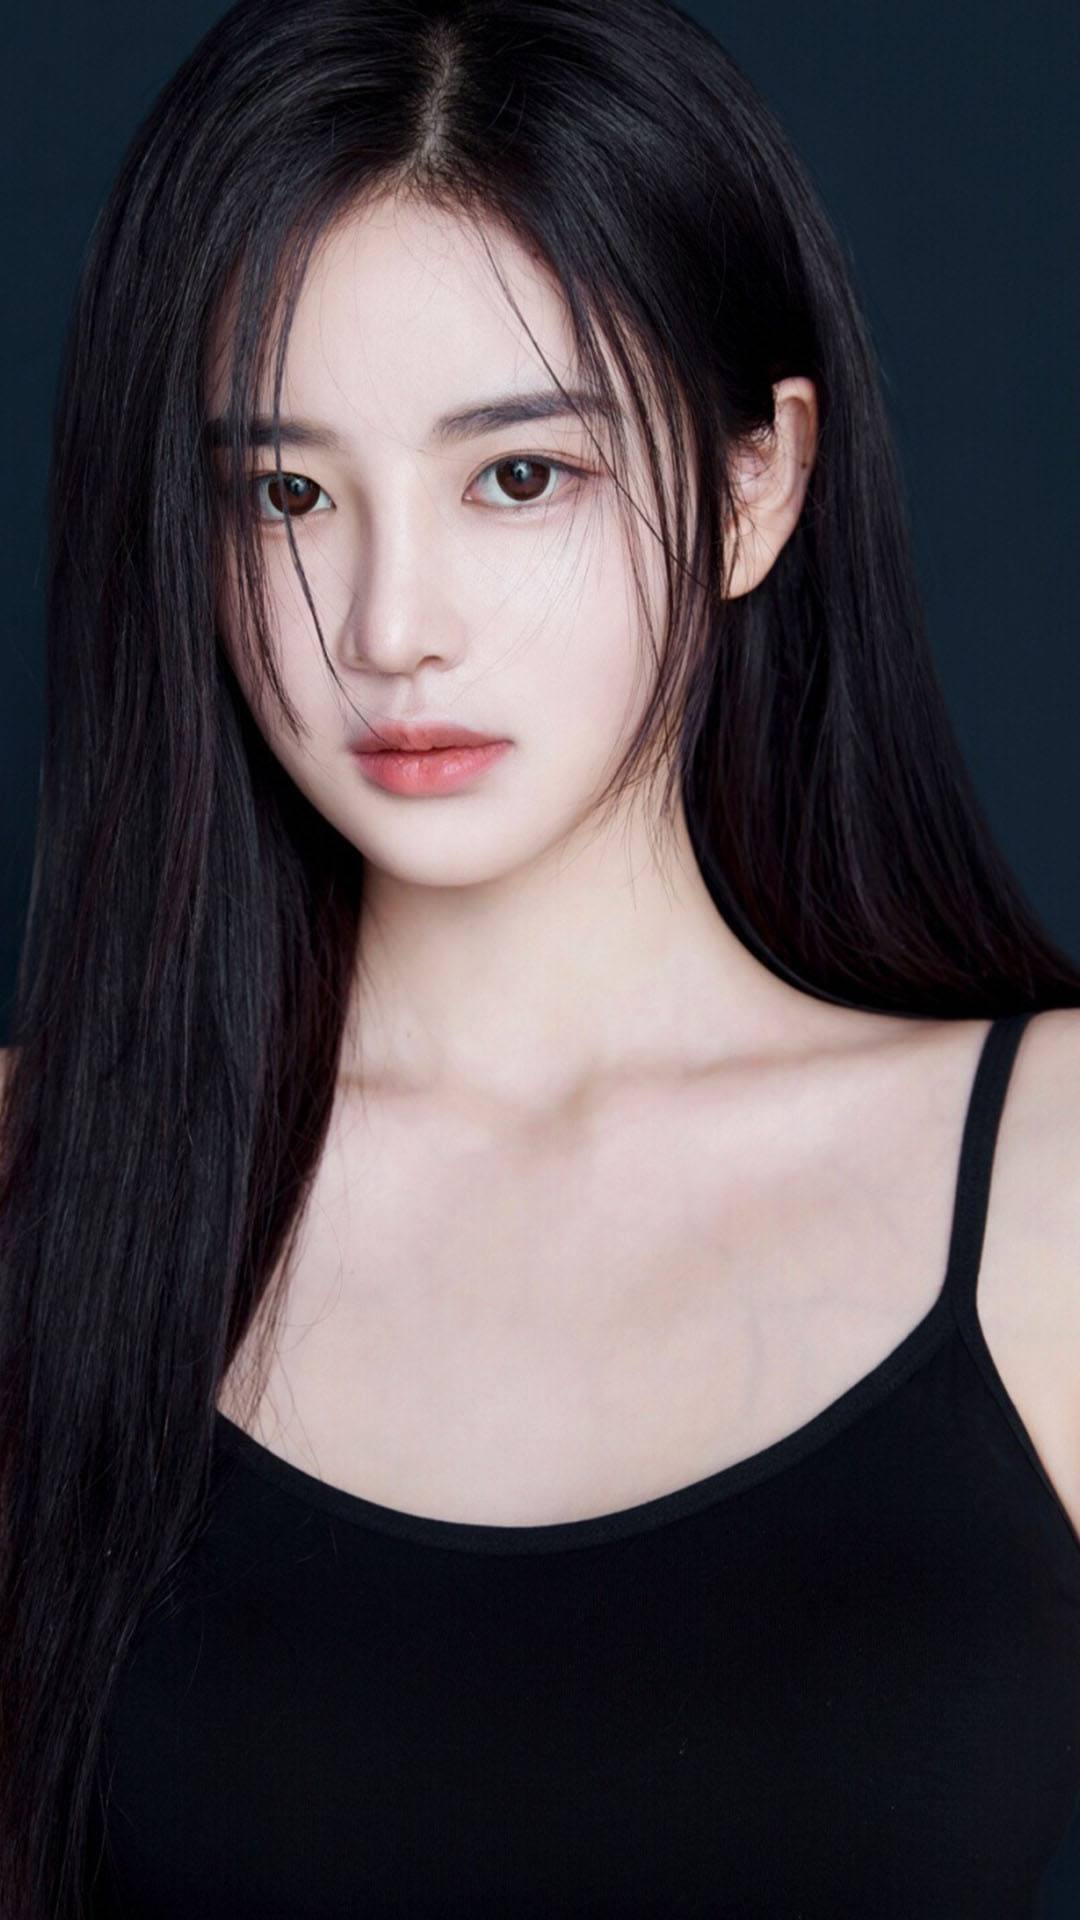person: (18, 55, 1075, 1800)
